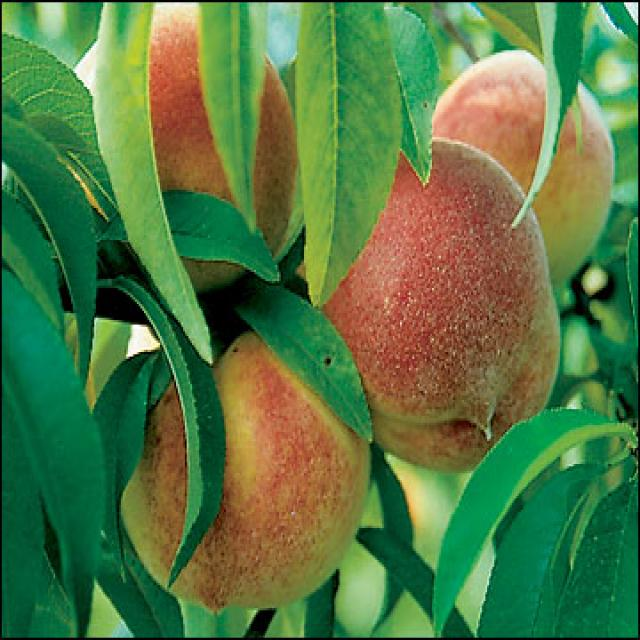peach: (4, 48, 619, 640)
